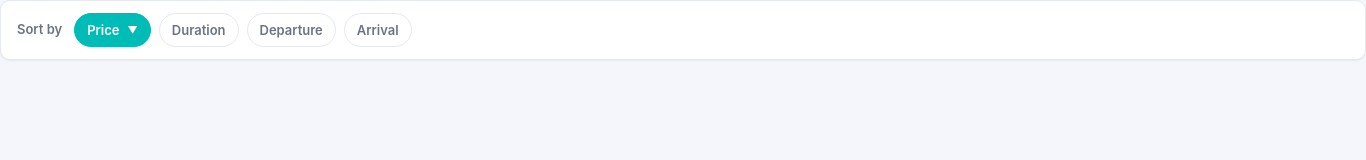
Test: SortBar › toggles the active option direction (arrow flips to up)
The width and height of the screenshot is (1366, 160).
What coordinates should you click on to do the following:
click the button "Price ▼"
I would click on:
 (112, 30)
Its box is [74,13,151,47].
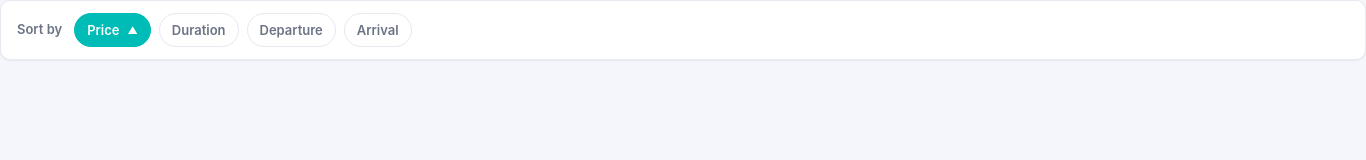
Expected: the button "Price ▲" is shown, [74,13,151,47]
